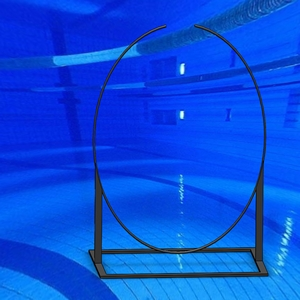circle: (87, 22, 270, 280)
